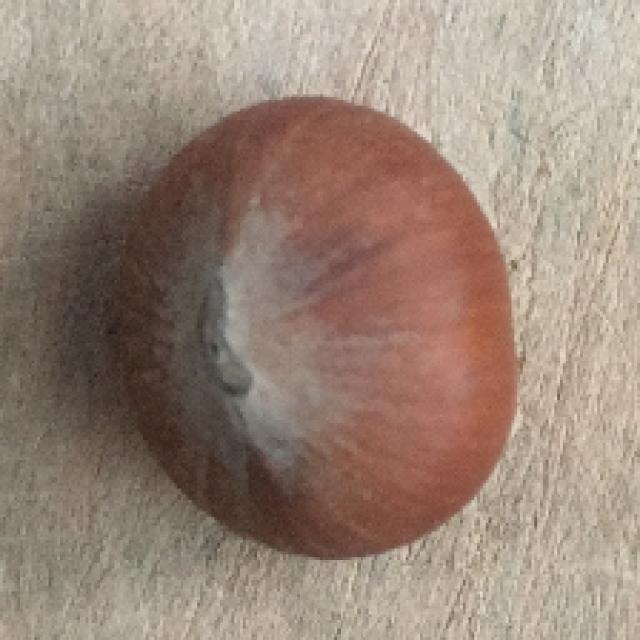qualityHazelnut: (110, 96, 516, 560)
